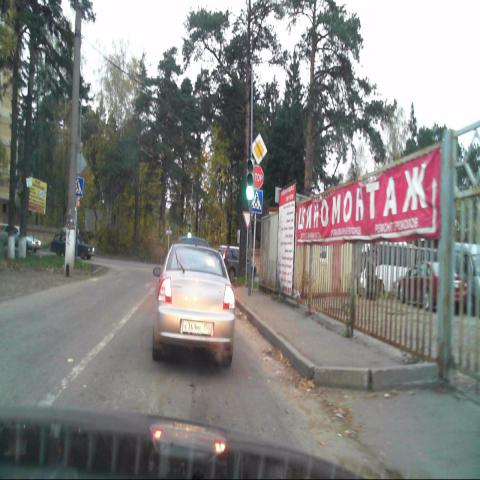2_5: (250, 167, 264, 191)
